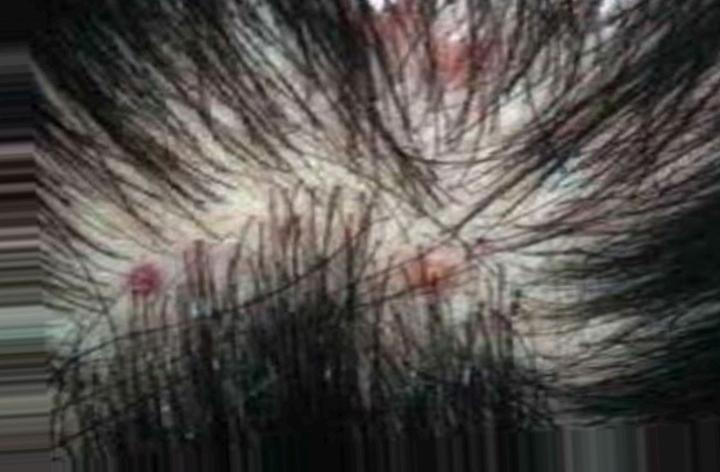Folliculitis: (264, 1, 558, 379)
